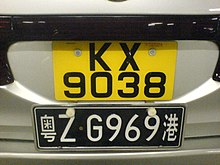license plate: (50, 38, 177, 100), (29, 103, 186, 151)
